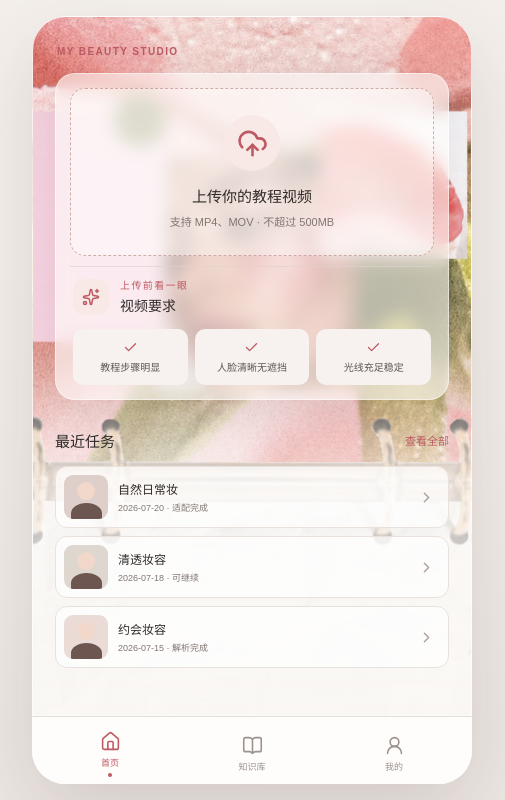
Scenario: keeps bottom navigation on top-level destinations
The width and height of the screenshot is (505, 800).
Click the link "知识库" at (252, 754), box left=238, top=735, right=266, bottom=772
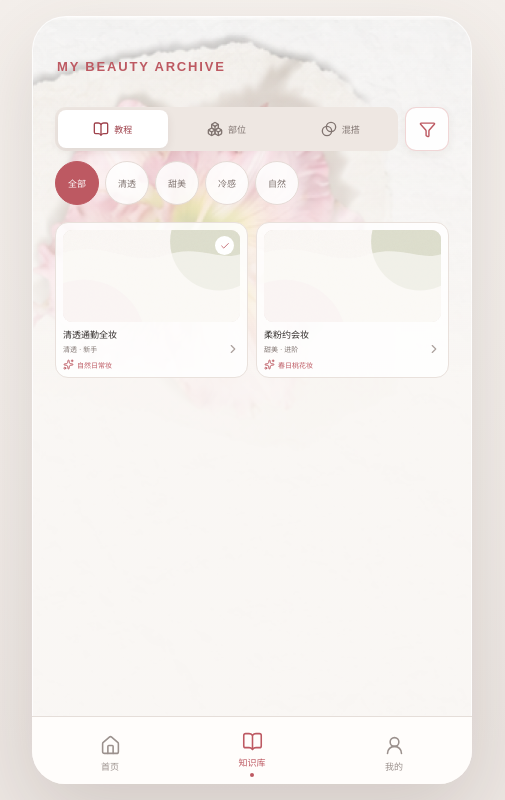
Expected: the navigation bar named "主导航" is shown, left=32, top=716, right=472, bottom=784
Expected: the text "MY BEAUTY ARCHIVE" is shown, left=57, top=58, right=226, bottom=76
